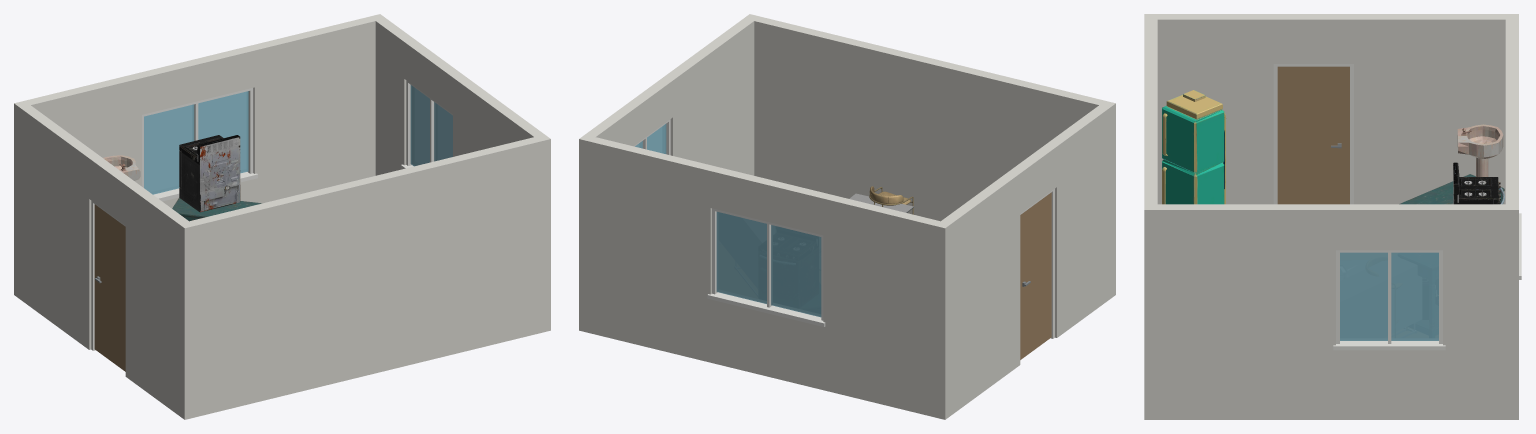
Rendered from layoutvlm.glb.
3 renders of one model, left to right at view 1: azimuth 30°, elevation 25°; view 2: azimuth 150°, elevation 25°; view 3: azimuth 270°, elevation 25°, orthographic. The views are drawn at different scales.
Parts seen in each view (by area): view 1: wall|scenesmith_093__R00|0, wall|scenesmith_093__R00|1, wall|scenesmith_093__R00|2, wall|scenesmith_093__R00|3, wall|scenesmith_093__R00|1 Window 0 | glazing, wall|scenesmith_093__R00|2 Door 0 | wood leaf, scenesmith_093__R00_stove-0, wall|scenesmith_093__R00|3 Window 0 | glazing, wall|scenesmith_093__R00|1 Window 0 | jamb, wall|scenesmith_093__R00|3 Window 0 | jamb, scenesmith_093__R00_countertop-0, wall|scenesmith_093__R00|2 Door 0 | jamb (+1 smaller); view 2: wall|scenesmith_093__R00|1, wall|scenesmith_093__R00|0, wall|scenesmith_093__R00|2, wall|scenesmith_093__R00|3, wall|scenesmith_093__R00|1 Window 0 | glazing, wall|scenesmith_093__R00|2 Door 0 | wood leaf, wall|scenesmith_093__R00|1 Window 0 | jamb, wall|scenesmith_093__R00|2 Door 0 | jamb, raw_model.002; view 3: wall|scenesmith_093__R00|3, wall|scenesmith_093__R00|2, wall|scenesmith_093__R00|2 Door 0 | wood leaf, wall|scenesmith_093__R00|3 Window 0 | glazing, scenesmith_093__R00_fridge-0, wall|scenesmith_093__R00|0, wall|scenesmith_093__R00|1, wall|scenesmith_093__R00|3 Window 0 | jamb, scenesmith_093__R00_sink-0, wall|scenesmith_093__R00|2 Door 0 | jamb, scenesmith_093__R00_stove-0, scenesmith_093__R00_countertop-0.
Part boxes in pixels (x1,y1,x2,y2): wall|scenesmith_093__R00|0: (184, 134, 550, 419); wall|scenesmith_093__R00|1: (25, 16, 375, 208); wall|scenesmith_093__R00|2: (14, 101, 195, 419); wall|scenesmith_093__R00|3: (370, 14, 550, 332); wall|scenesmith_093__R00|1 Window 0 | glazing: (144, 91, 248, 194); wall|scenesmith_093__R00|2 Door 0 | wood leaf: (94, 204, 125, 371); scenesmith_093__R00_stove-0: (179, 135, 240, 212); wall|scenesmith_093__R00|3 Window 0 | glazing: (410, 85, 452, 166); wall|scenesmith_093__R00|1 Window 0 | jamb: (142, 88, 257, 201); wall|scenesmith_093__R00|3 Window 0 | jamb: (401, 80, 452, 169); scenesmith_093__R00_countertop-0: (172, 198, 261, 221); wall|scenesmith_093__R00|2 Door 0 | jamb: (91, 201, 125, 350); wall|scenesmith_093__R00|1: (589, 137, 939, 417); wall|scenesmith_093__R00|0: (744, 14, 1104, 221); wall|scenesmith_093__R00|2: (934, 101, 1115, 419); wall|scenesmith_093__R00|3: (579, 14, 759, 332); wall|scenesmith_093__R00|1 Window 0 | glazing: (716, 211, 821, 317); wall|scenesmith_093__R00|2 Door 0 | wood leaf: (1020, 192, 1051, 359); wall|scenesmith_093__R00|1 Window 0 | jamb: (707, 208, 825, 326); wall|scenesmith_093__R00|2 Door 0 | jamb: (1020, 189, 1054, 338); raw_model.002: (869, 186, 913, 214); wall|scenesmith_093__R00|3: (1144, 204, 1518, 419); wall|scenesmith_093__R00|2: (1144, 14, 1518, 204); wall|scenesmith_093__R00|2 Door 0 | wood leaf: (1277, 66, 1349, 204); wall|scenesmith_093__R00|3 Window 0 | glazing: (1340, 252, 1438, 340); scenesmith_093__R00_fridge-0: (1162, 90, 1226, 204); wall|scenesmith_093__R00|0: (1144, 19, 1157, 419); wall|scenesmith_093__R00|1: (1505, 19, 1518, 419); wall|scenesmith_093__R00|3 Window 0 | jamb: (1333, 250, 1445, 350); scenesmith_093__R00_sink-0: (1457, 124, 1503, 176); wall|scenesmith_093__R00|2 Door 0 | jamb: (1273, 64, 1353, 204); scenesmith_093__R00_stove-0: (1453, 162, 1504, 204); scenesmith_093__R00_countertop-0: (1399, 174, 1504, 204).
Size of the model in its own units: 5.23 by 2.61 by 4.23.
14 materials, 8 textured.
